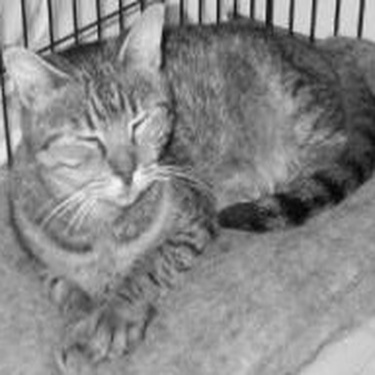cat: (3, 11, 363, 356)
